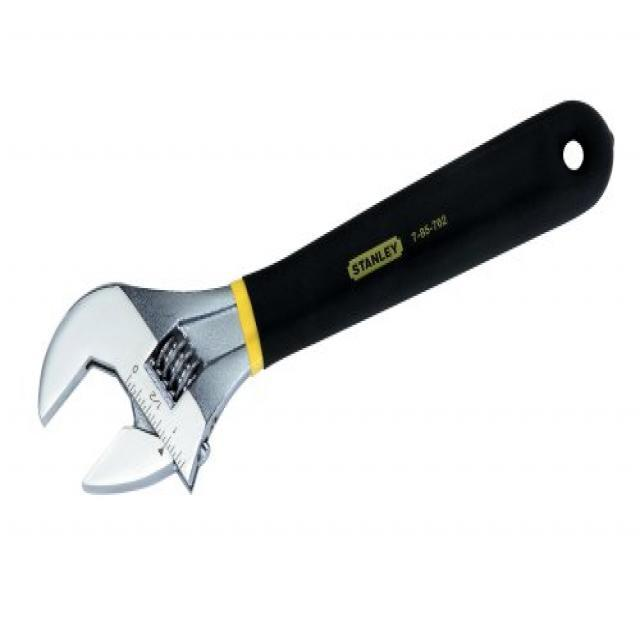wrench: (26, 91, 623, 506)
